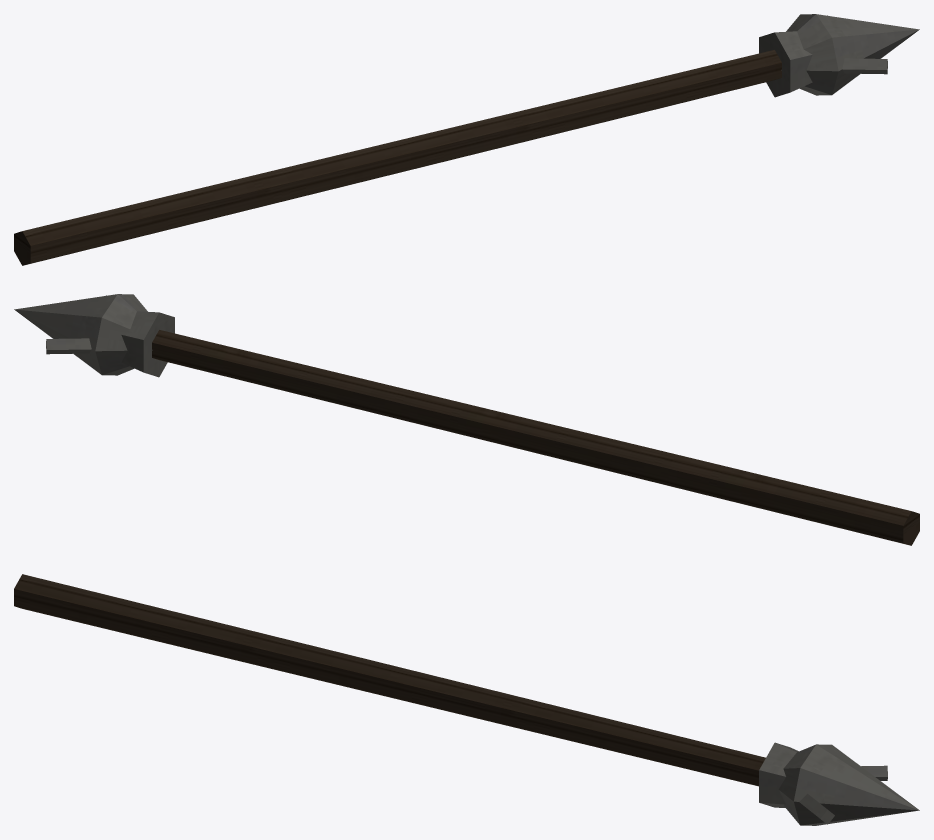
Rendered from loot_staff_g0.glb.
3 renders of one model, top to bottom at view 1: azimuth 30°, elevation 25°; view 2: azimuth 150°, elevation 25°; view 3: azimuth 330°, elevation 25°, orthographic.
Parts seen in each view (by area): view 1: loot_staff_g0; view 2: loot_staff_g0; view 3: loot_staff_g0.
Boxes of the visible parts, x1,y1,x2,y2 form: loot_staff_g0: (14,14,919,265); loot_staff_g0: (14,294,919,545); loot_staff_g0: (14,574,919,825).
Size of the model in its own units: 1.73 by 0.15 by 0.2237.
Materials: 2 (2 with a texture image).
